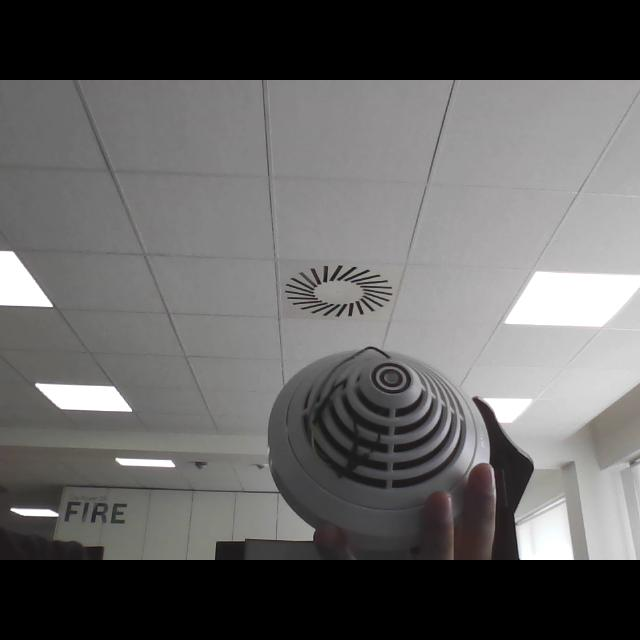Smoke-Detector: (266, 352, 488, 540)
